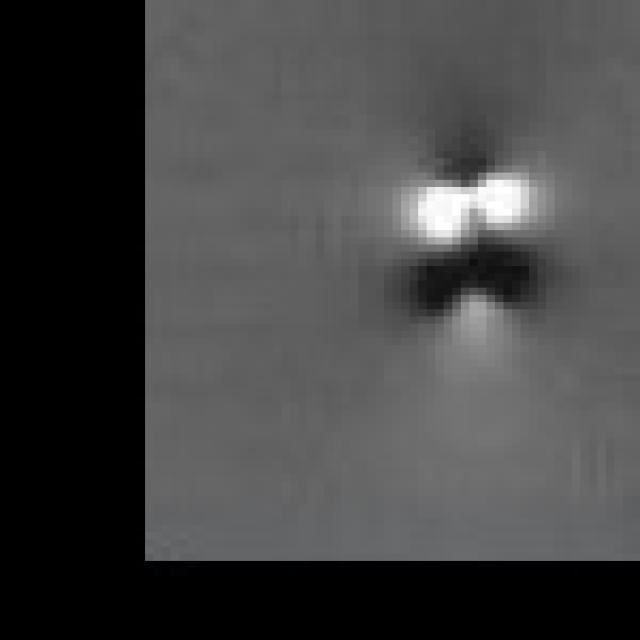Defect1: (329, 70, 593, 396)
